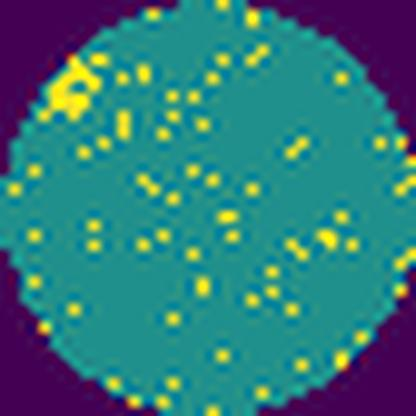Edge-Loc: (43, 51, 102, 120)
